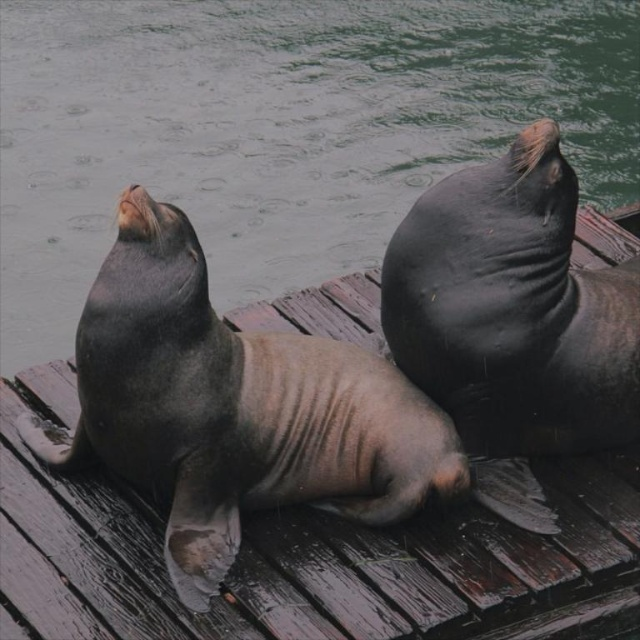Harbor seal: (16, 184, 473, 616), (380, 116, 640, 535)
